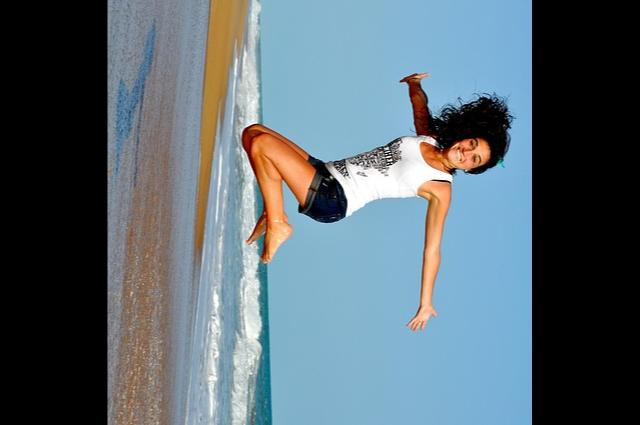Non_Gorille: (178, 52, 532, 342)
